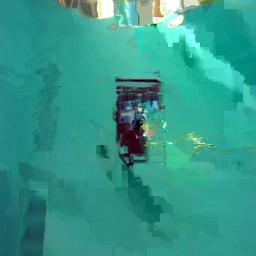front: (112, 109, 168, 167)
